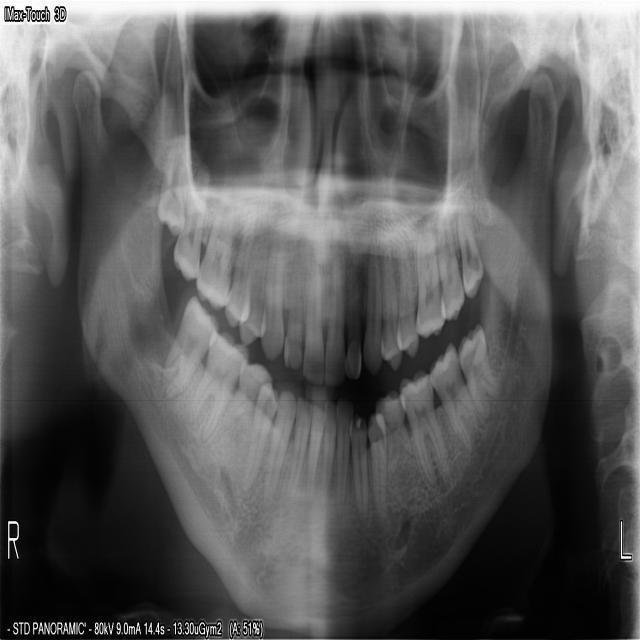LCD: (347, 409, 367, 529)
LCU: (361, 234, 382, 379)
LID: (333, 396, 352, 519), (318, 398, 337, 510)
LIU: (322, 240, 344, 387), (342, 240, 361, 381)
LMD: (397, 365, 449, 487), (428, 340, 478, 455), (456, 314, 501, 420), (373, 387, 410, 470)
LMU: (413, 217, 445, 340), (455, 198, 484, 300), (438, 211, 464, 322)
LPMD: (365, 408, 386, 520)
LPMU: (378, 237, 401, 372), (394, 232, 418, 359)
RCD: (260, 385, 296, 511)
RCU: (258, 226, 284, 363)
RID: (279, 395, 312, 511), (303, 390, 325, 517)
RIU: (300, 243, 323, 387), (281, 233, 303, 372)
RMD: (185, 328, 247, 444), (213, 355, 271, 476), (158, 291, 218, 399)
RMU: (194, 188, 232, 311), (171, 160, 208, 283), (154, 131, 185, 238)
RPMD: (237, 381, 277, 497)
RPMU: (237, 223, 266, 347), (222, 214, 250, 331)
